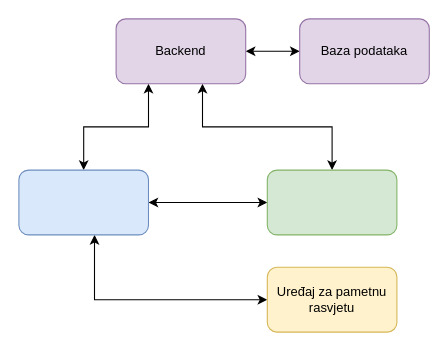
The diagram is 448 pixels wide and 351 high, and some of its shapes have lost their labels. Here are the shapes that lost their labels. From the top down, the centre of each, then its label:
[83,202]: Aplikacija
[331,202]: Uređaj za mjerenje kvalitete zraka
